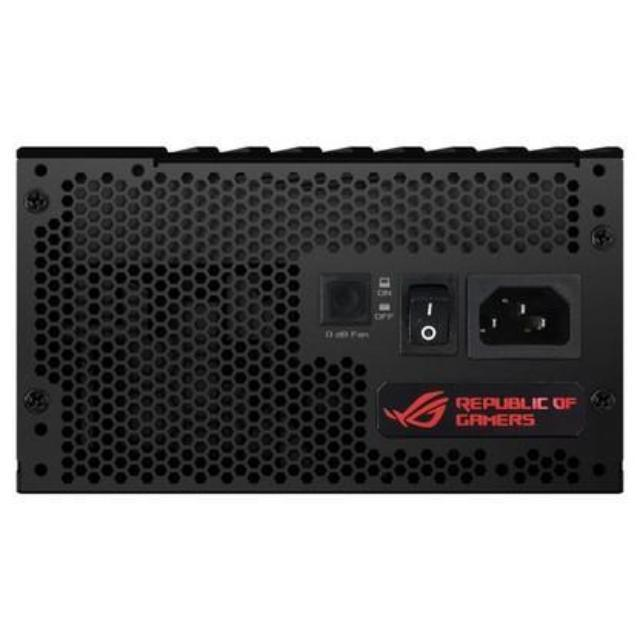PSU: (8, 107, 637, 524)
